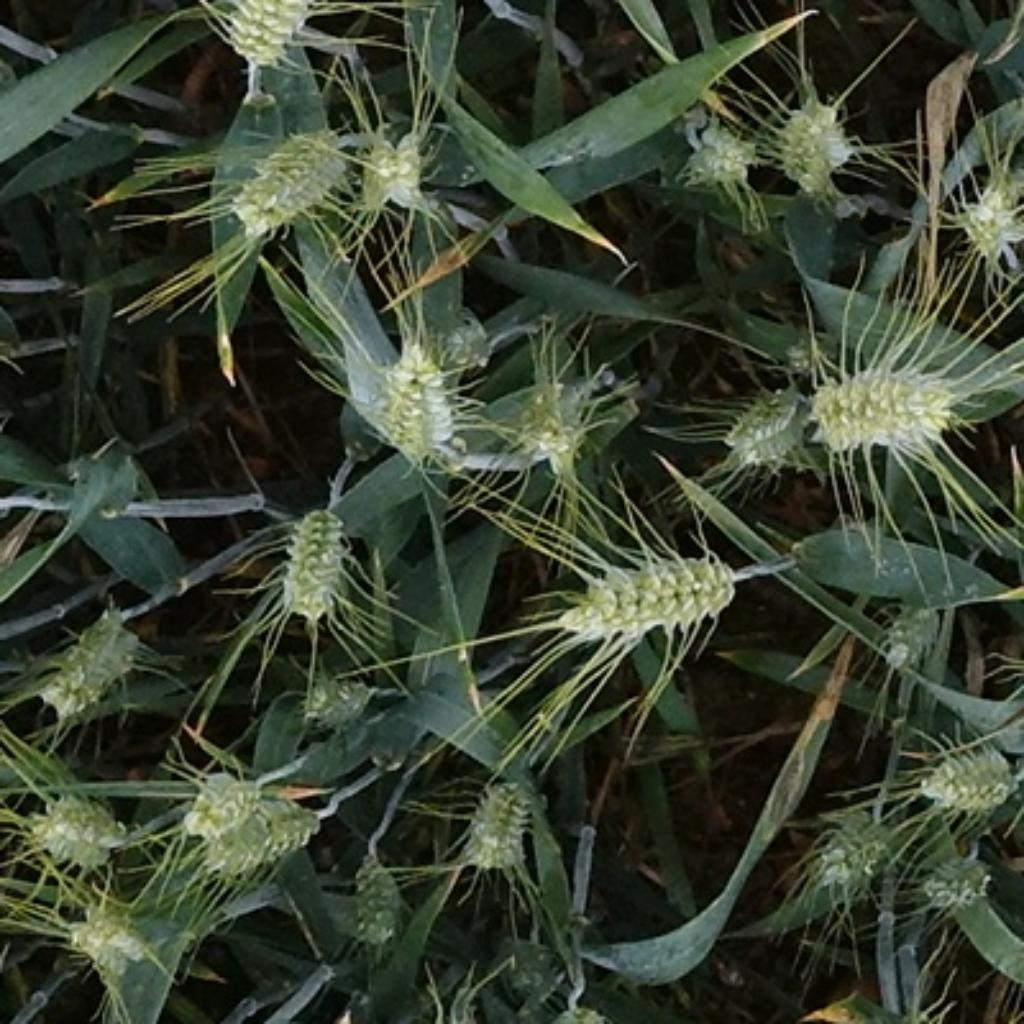0-0: (542, 532, 747, 645), (808, 356, 975, 466), (348, 325, 465, 455), (222, 115, 350, 230), (268, 491, 370, 634), (38, 591, 145, 719), (56, 883, 181, 983), (455, 757, 549, 885), (768, 81, 865, 204), (798, 788, 906, 896), (499, 355, 599, 465), (25, 778, 138, 867), (912, 735, 1024, 820), (209, 794, 326, 872), (712, 373, 807, 465), (166, 763, 268, 846), (217, 0, 335, 66), (353, 120, 435, 209), (911, 839, 998, 919), (340, 849, 409, 949), (872, 591, 952, 676), (952, 166, 1024, 256), (678, 117, 758, 194), (296, 660, 381, 729), (414, 309, 491, 376)
